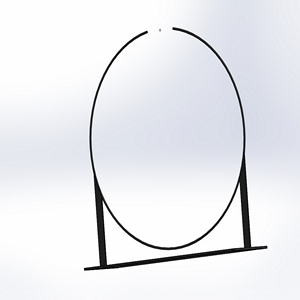circle: (83, 23, 270, 270)
